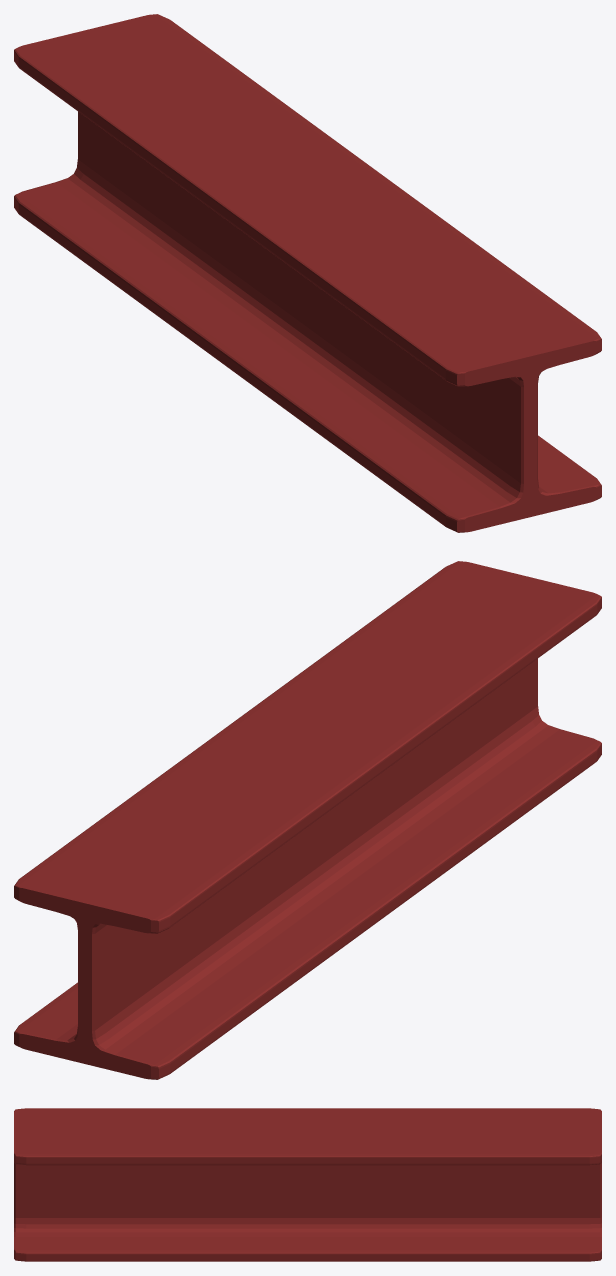
File: steel_straight_5.fbx
3 renders of one model, top to bottom at view 1: azimuth 30°, elevation 25°; view 2: azimuth 150°, elevation 25°; view 3: azimuth 270°, elevation 25°, orthographic. The views are drawn at different scales.
Parts seen in each view (by area): view 1: Cube; view 2: Cube; view 3: Cube.
Boxes of the visible parts, x1,y1,x2,y2 form: Cube: (14,14,601,532); Cube: (14,561,601,1079); Cube: (14,1108,601,1261).
Size of the model in its own units: 98.18 by 99.55 by 500.
